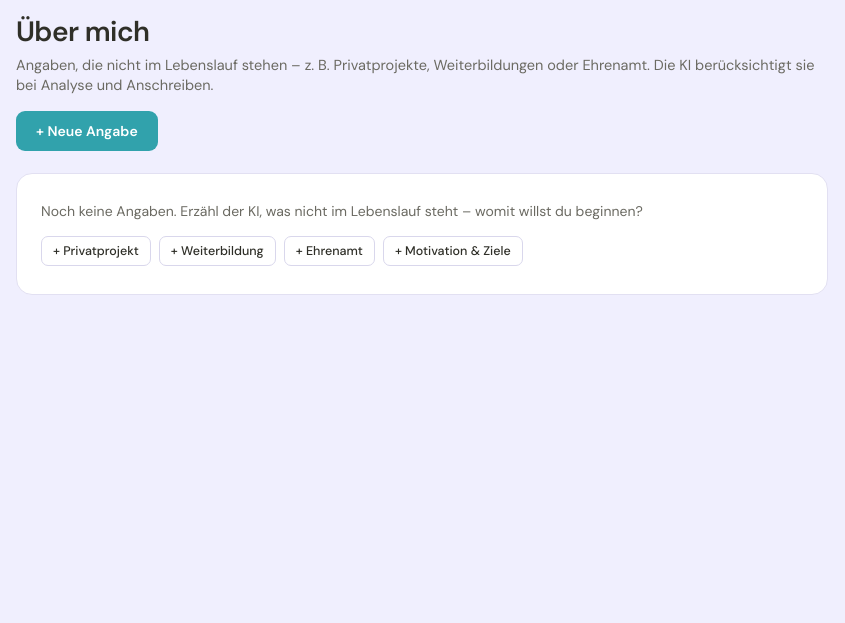
Test: AboutComponent › offers suggestions when empty and creates a note
Click the button "+ Privatprojekt" at (96, 251), box [41,236,151,266]
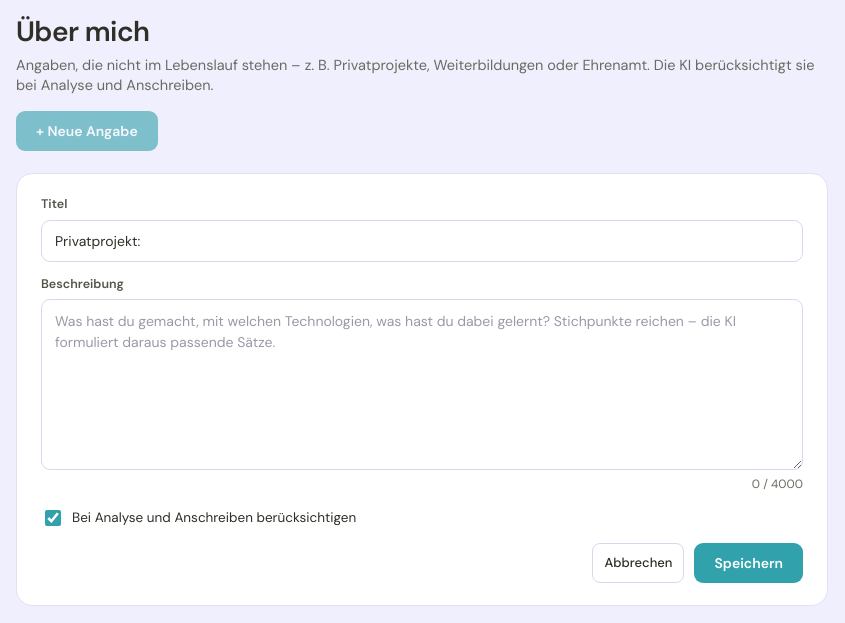
Expected: the field named "title" holds "Privatprojekt: "
Replace the text in the field named "title" with "Privatprojekt: Wetter-App" at (422, 241), box [41,220,803,262]
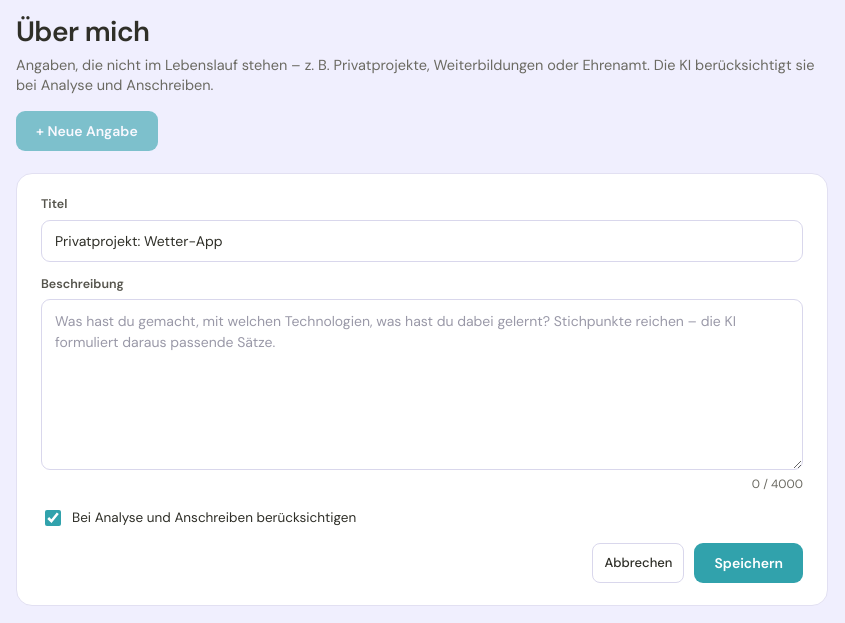
Replace the text in the text box labelled "Beschreibung 0 / 4000" with "Ionic, offlinefähig" at (422, 385), box [41,299,803,470]
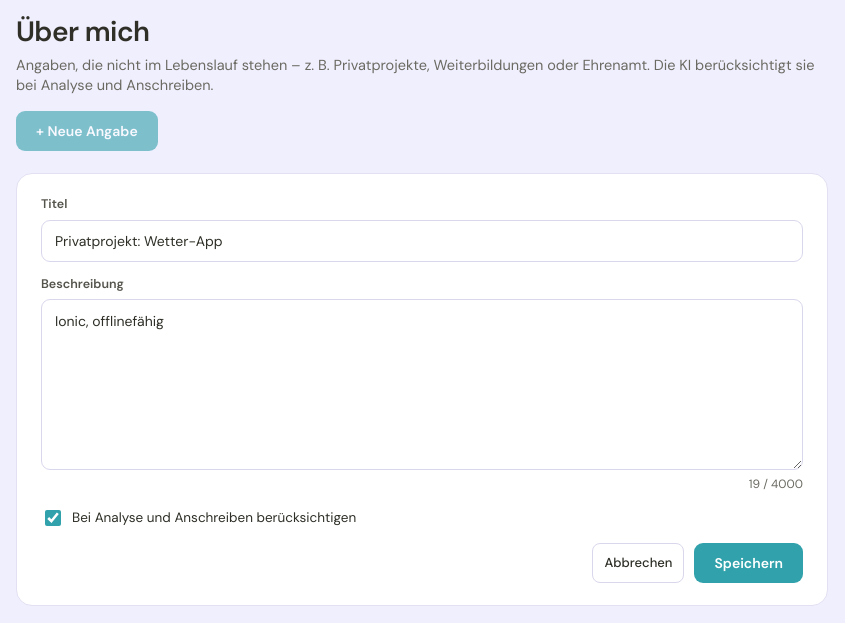
Click the submit button at (749, 563), box [694,543,803,583]
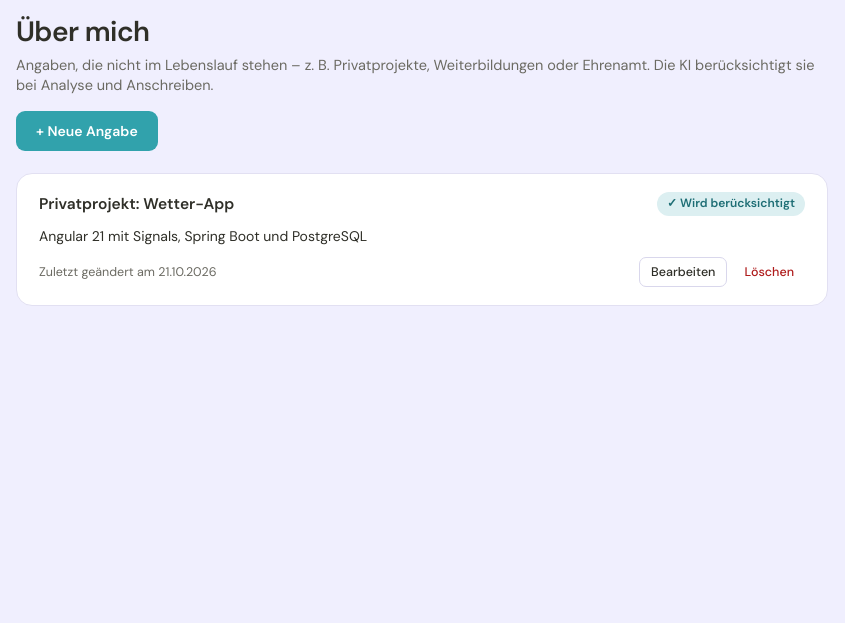
Expected: the form with class "editor" is gone
Expected: the number of elements with class "note" is 1, [16,173,828,306]
